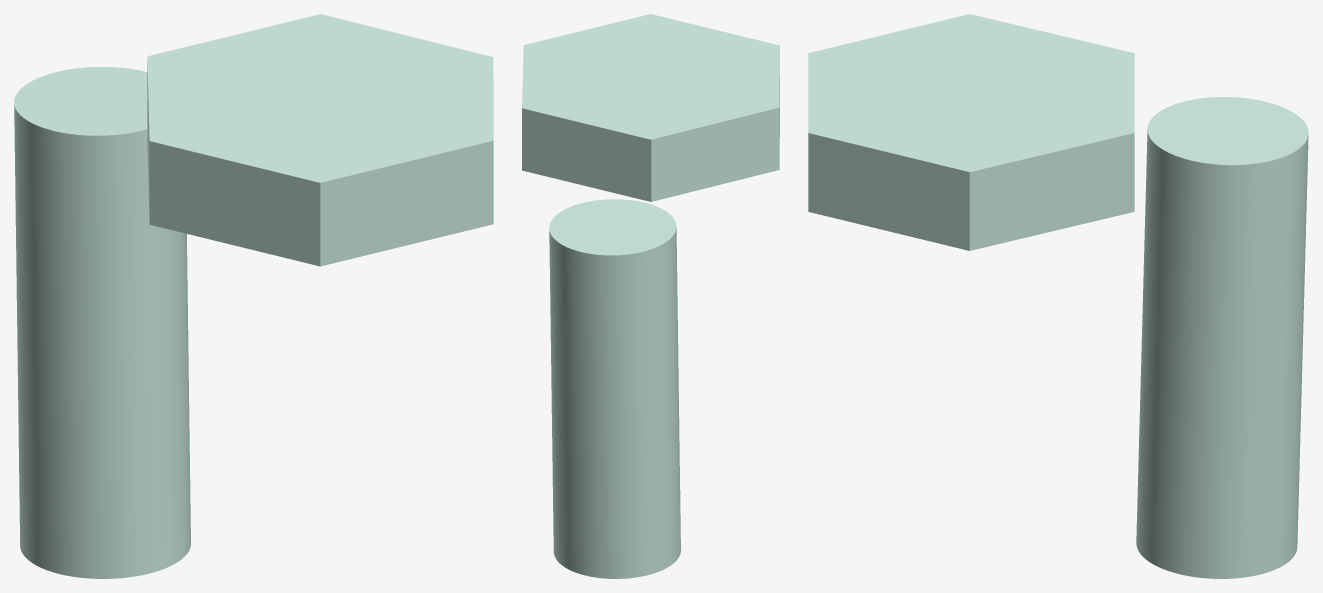
3 renders of one model, left to right at view 1: azimuth 30°, elevation 25°; view 2: azimuth 150°, elevation 25°; view 3: azimuth 270°, elevation 25°, orthographic. The views are drawn at different scales.
Visible parts, largest first — view 1: Renderer Node; view 2: Renderer Node; view 3: Renderer Node.
Boxes of the visible parts, x1,y1,x2,y2 form: Renderer Node: (14, 14, 493, 578); Renderer Node: (522, 14, 779, 578); Renderer Node: (808, 14, 1308, 578).
Size of the model in its own units: 0.4034 by 0.5858 by 0.5391.
